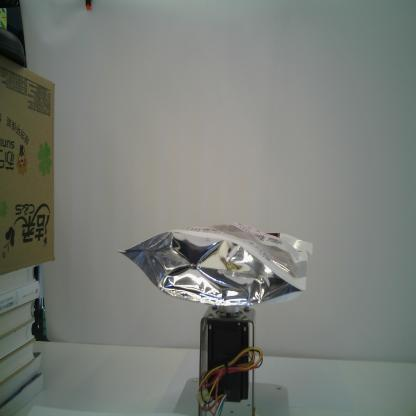Dried Food: (117, 219, 314, 310)
